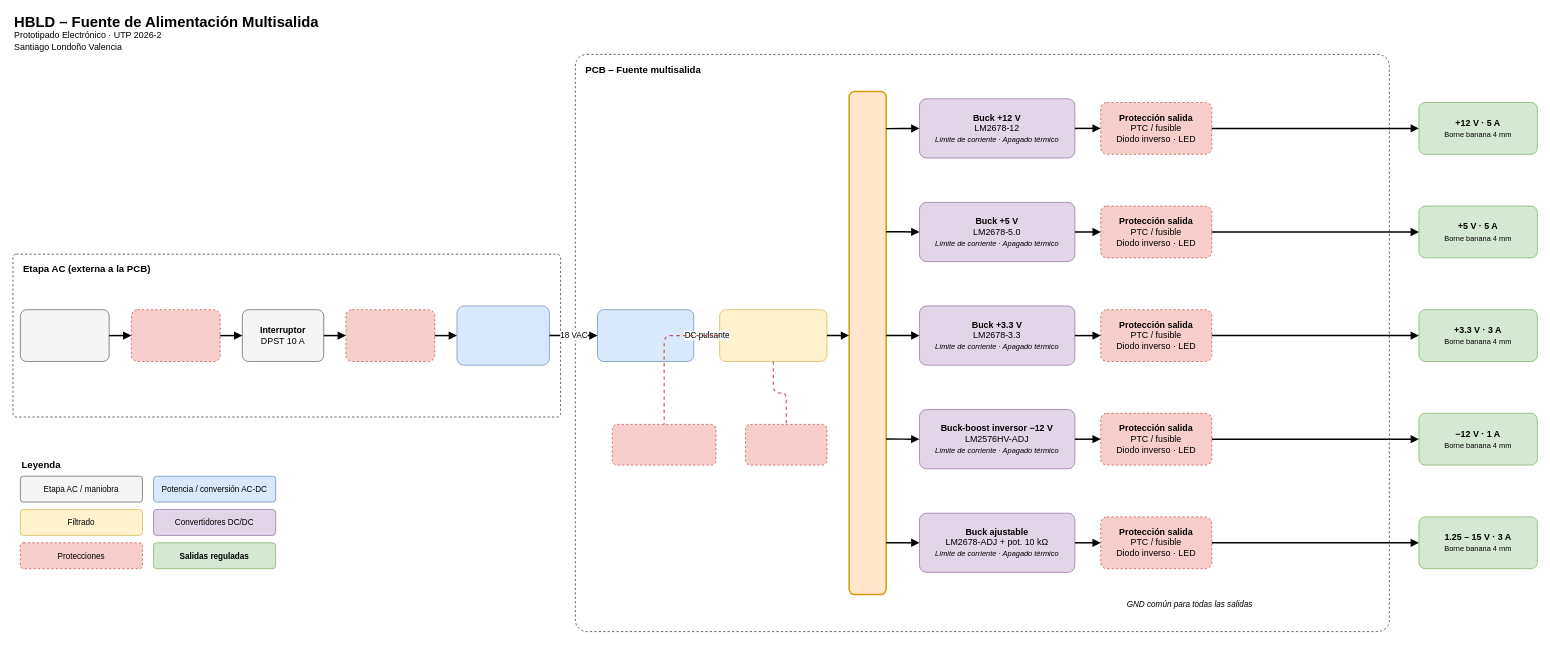
This 1550x645 diagram has some shape labels left out. The shapes that lost their labels are listed below. From the top down, each one's box as (x1, y1, x2, y2) in pixels, then its label:
(20, 309, 109, 361): Entrada AC 120 VAC · 60 Hz
(131, 309, 220, 361): Fusible T3.15 A / 250 V
(345, 309, 435, 361): Varistor (MOV) 14D241K
(456, 305, 549, 365): Transformador 120 / 18 VAC ≥ 300 VA
(597, 309, 694, 361): Rectificador Puente GBJ2510 25 A
(719, 309, 827, 361): Filtrado capacitivo 3 × 10 000 µF / 50 V
(848, 90, 887, 595): BUS VIN DC · 21 – 30 V · ≈ 8.3 A
(612, 424, 716, 465): R descarga + LED 4.7 kΩ / 1 W
(745, 424, 827, 465): TVS SMCJ33A
